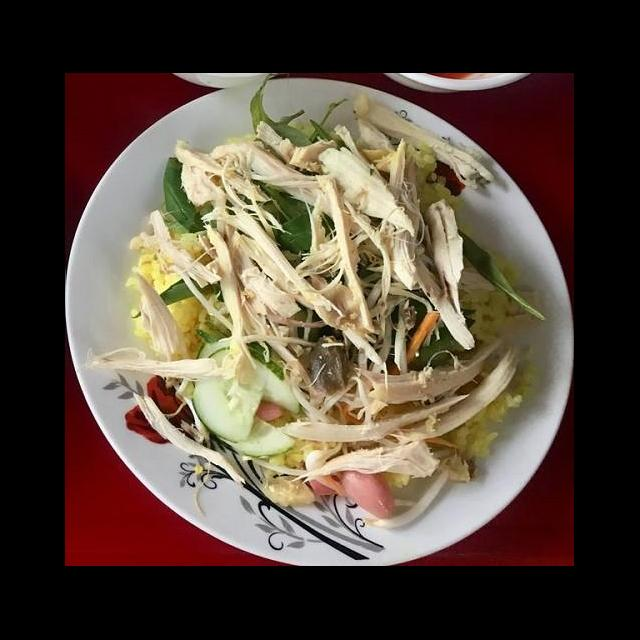com: (444, 250, 548, 352), (121, 248, 208, 358), (444, 386, 524, 462)
com ga: (70, 110, 574, 566)
rau ram: (452, 222, 550, 326), (246, 75, 352, 162), (234, 174, 330, 255), (158, 152, 225, 236)
thit ga: (172, 124, 479, 356), (272, 334, 520, 482), (349, 90, 496, 194), (132, 386, 248, 491), (84, 347, 258, 388), (130, 270, 193, 364)
